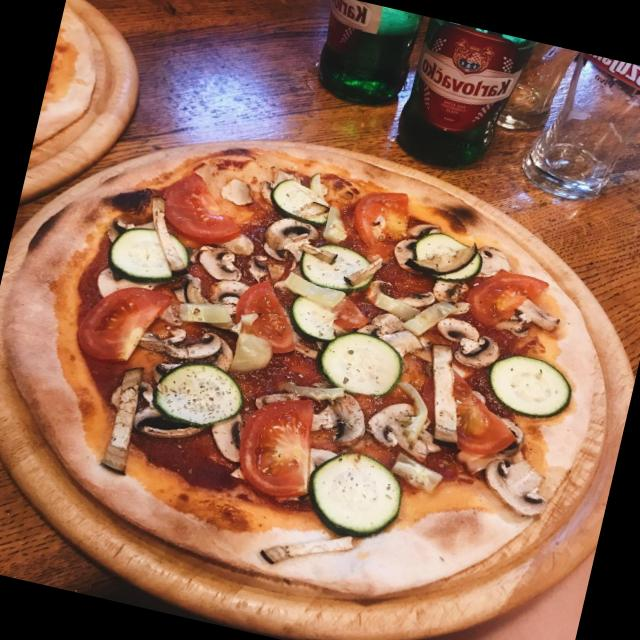mushrooms: (94, 362, 158, 475), (247, 512, 356, 578), (360, 396, 452, 464), (143, 318, 234, 378), (474, 452, 551, 522), (137, 190, 196, 277), (250, 208, 327, 270), (301, 385, 376, 445), (127, 398, 210, 449), (384, 214, 434, 276), (366, 276, 434, 318), (204, 406, 252, 462), (92, 264, 148, 310), (194, 237, 248, 284), (454, 328, 503, 374), (424, 308, 480, 348), (355, 306, 407, 346), (208, 273, 252, 314), (520, 292, 565, 332), (250, 381, 298, 418), (434, 273, 470, 309), (470, 242, 504, 278), (254, 246, 288, 282)
pizza: (0, 143, 604, 591)
